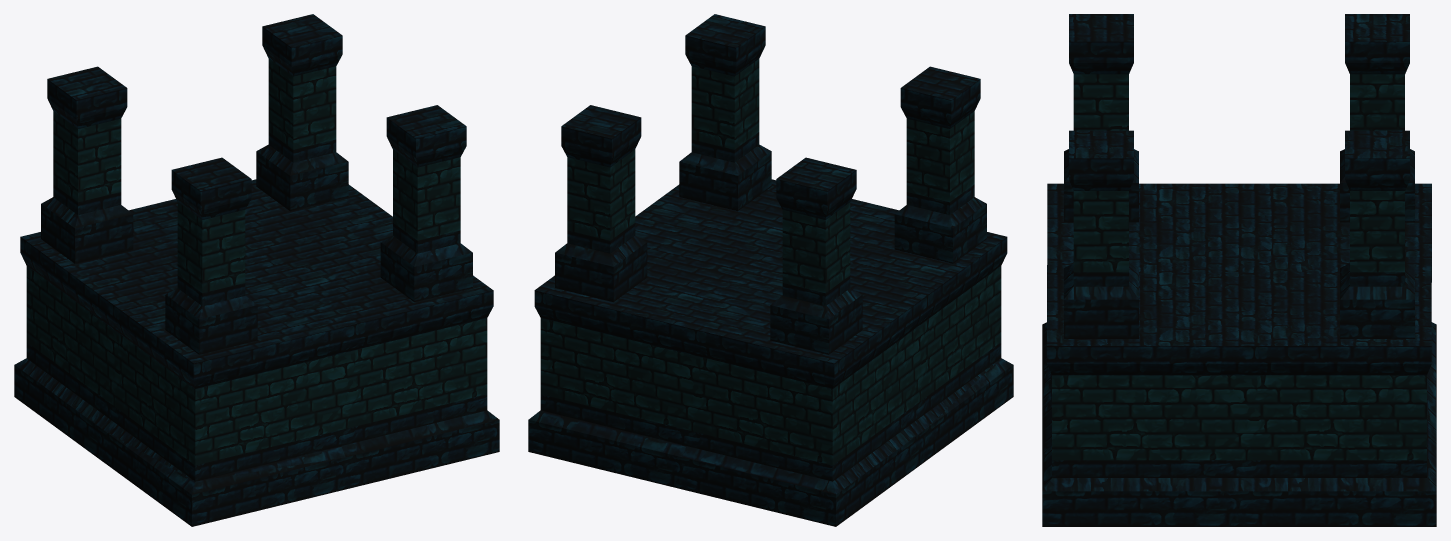
The model's file is tile-pillar.glb.
3 views of the same model, side by side, from view 1: azimuth 30°, elevation 25°; view 2: azimuth 150°, elevation 25°; view 3: azimuth 270°, elevation 25° (orthographic). The views are drawn at different scales.
Visible parts, largest first — view 1: mergedBlocks(Clone); view 2: mergedBlocks(Clone); view 3: mergedBlocks(Clone).
Boxes of the visible parts, x1,y1,x2,y2 form: mergedBlocks(Clone): [14, 14, 499, 526]; mergedBlocks(Clone): [528, 14, 1013, 526]; mergedBlocks(Clone): [1042, 14, 1436, 526].
Bounding box in the file's own units: 2 × 2 × 2.
2 materials, 2 textured.
